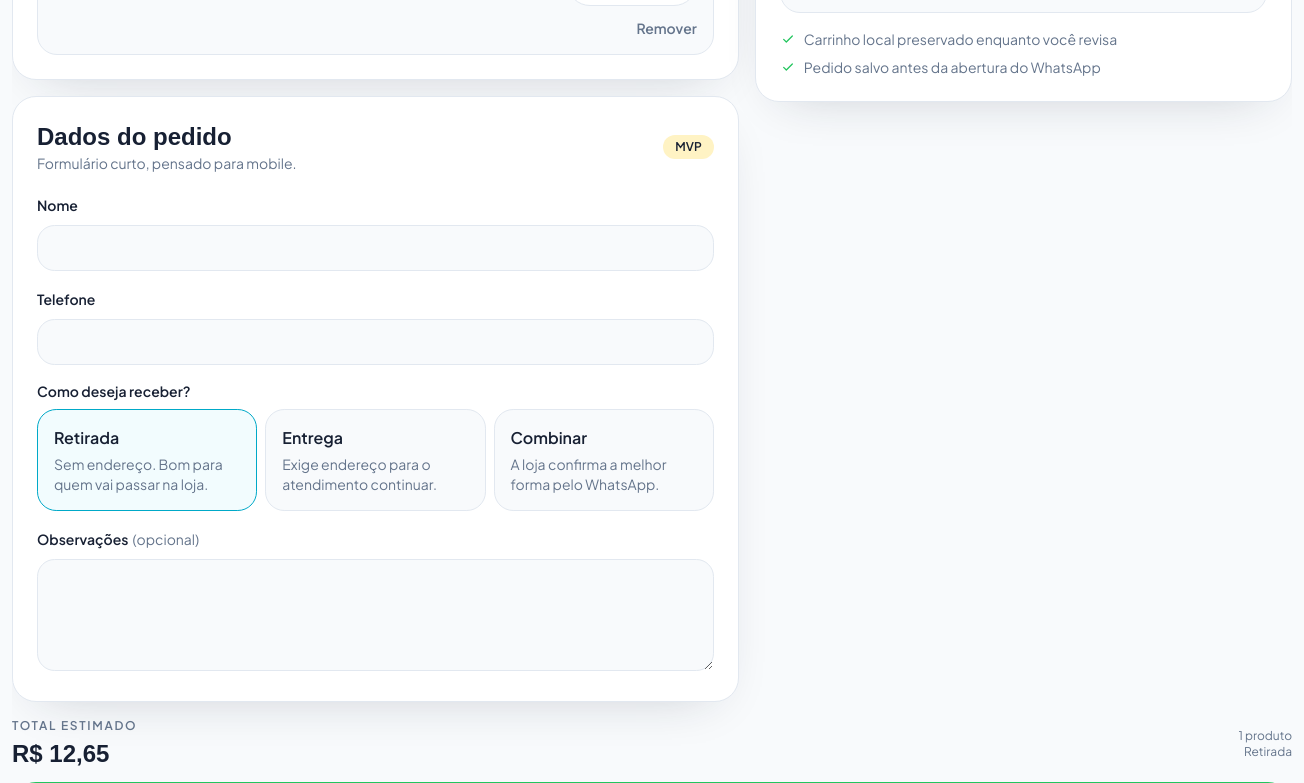
Test: OrderPageClient › shows an error when CEP is not found
The image size is (1304, 783).
(page scrolled)
Click the button "Entrega Exige endereço para o atendimento continuar." at (375, 460), box [265,409,486,511]
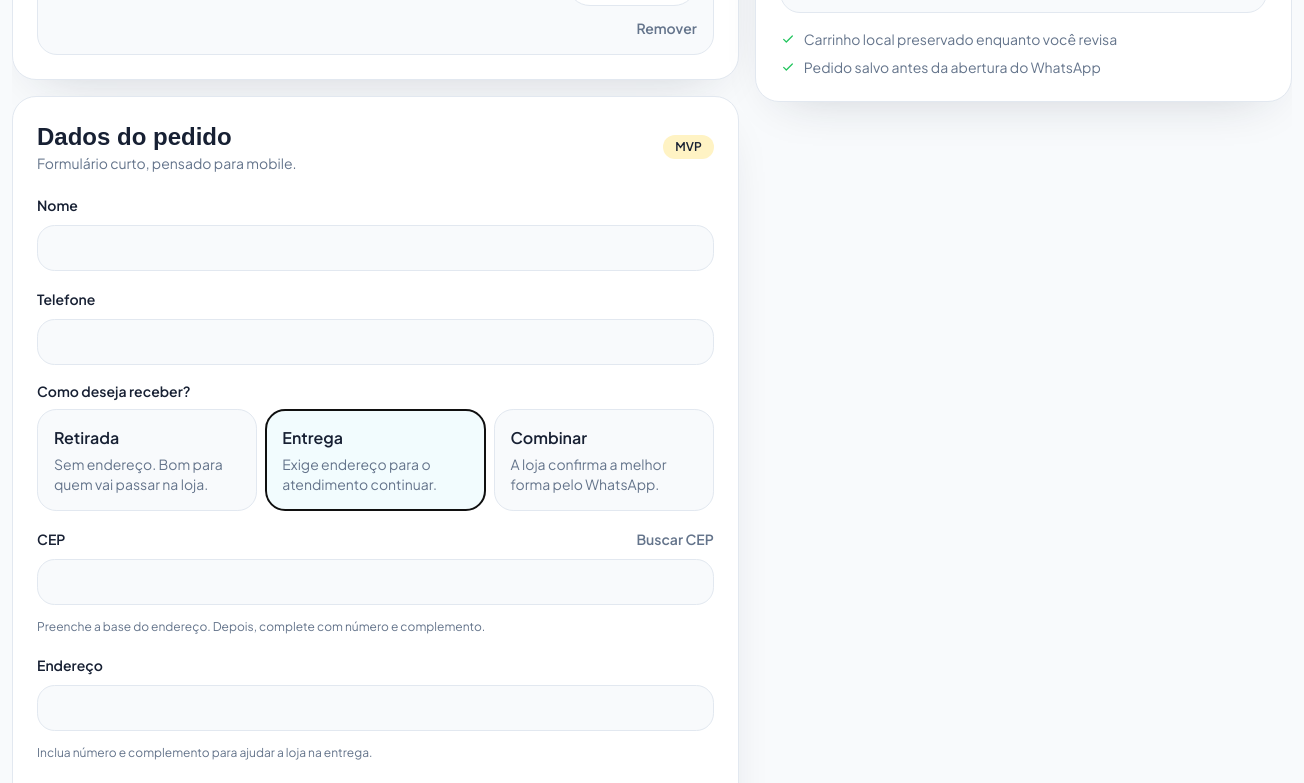
Type "60125340" into the field labelled "CEP" at (375, 582), box [37,559,714,605]
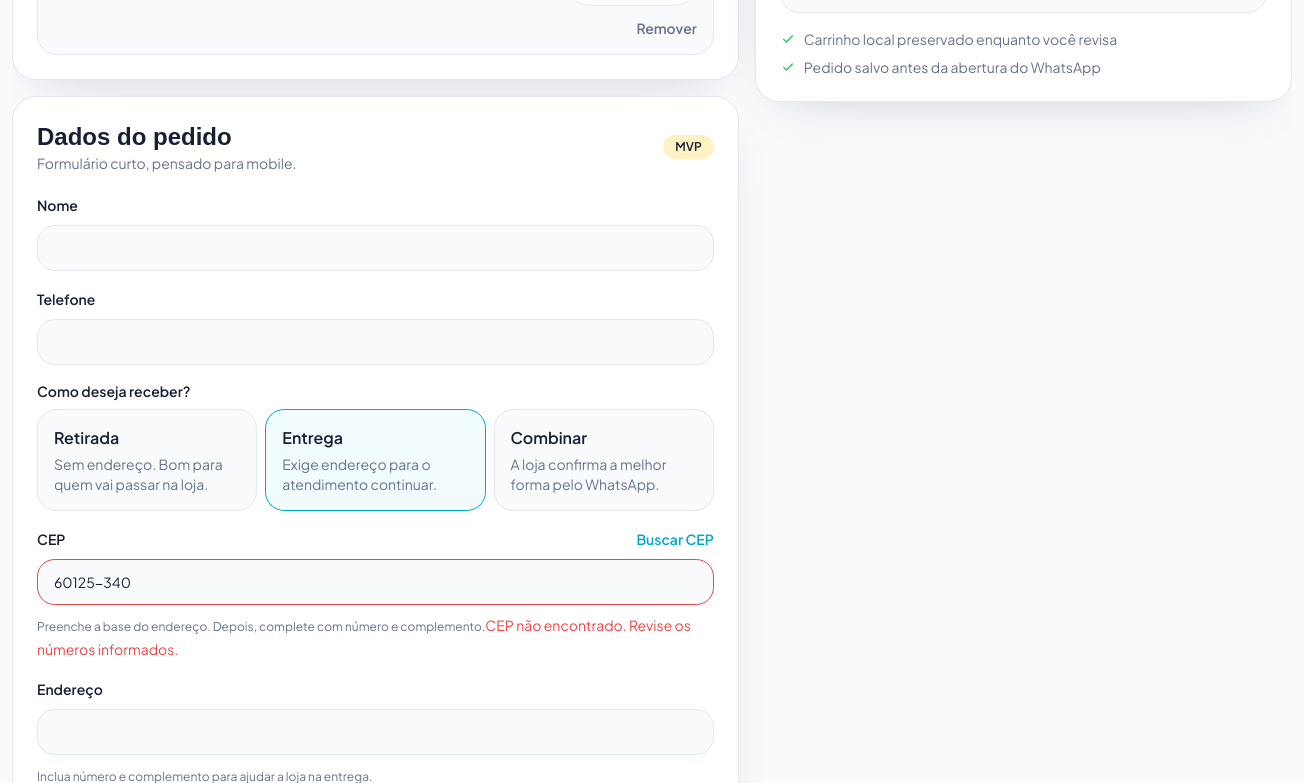
Expected: the text "CEP não encontrado. Revise os números informados." is shown, [37,616,691,658]
